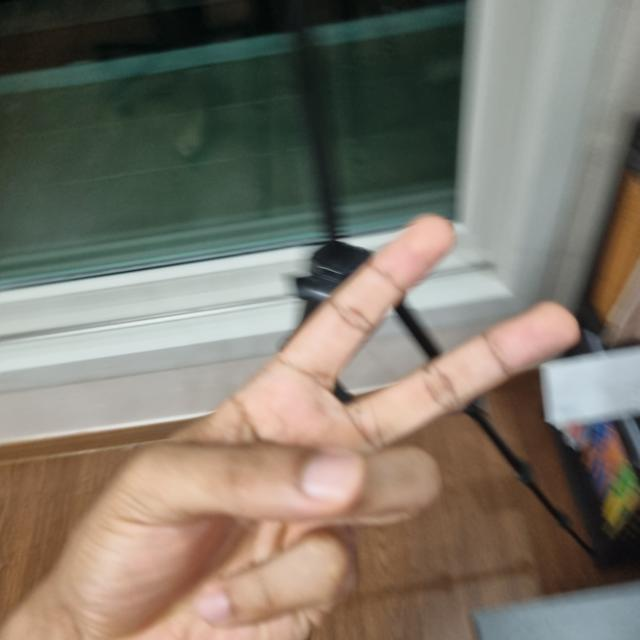Scissors: (5, 215, 585, 639)
